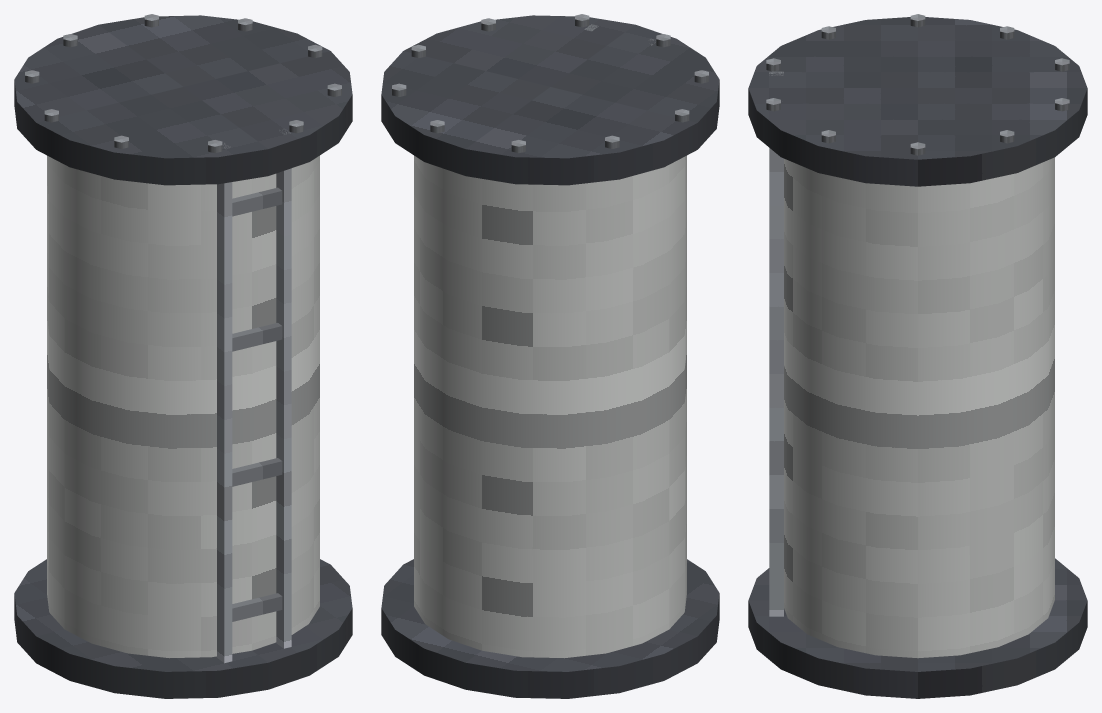
Rendered from wind_tower.obj.
The picture shows the model from 3 angles, left to right: view 1: azimuth 30°, elevation 25°; view 2: azimuth 150°, elevation 25°; view 3: azimuth 270°, elevation 25°; orthographic projection.
Size of the model in its own units: 0.5632 by 1 by 0.5632.
